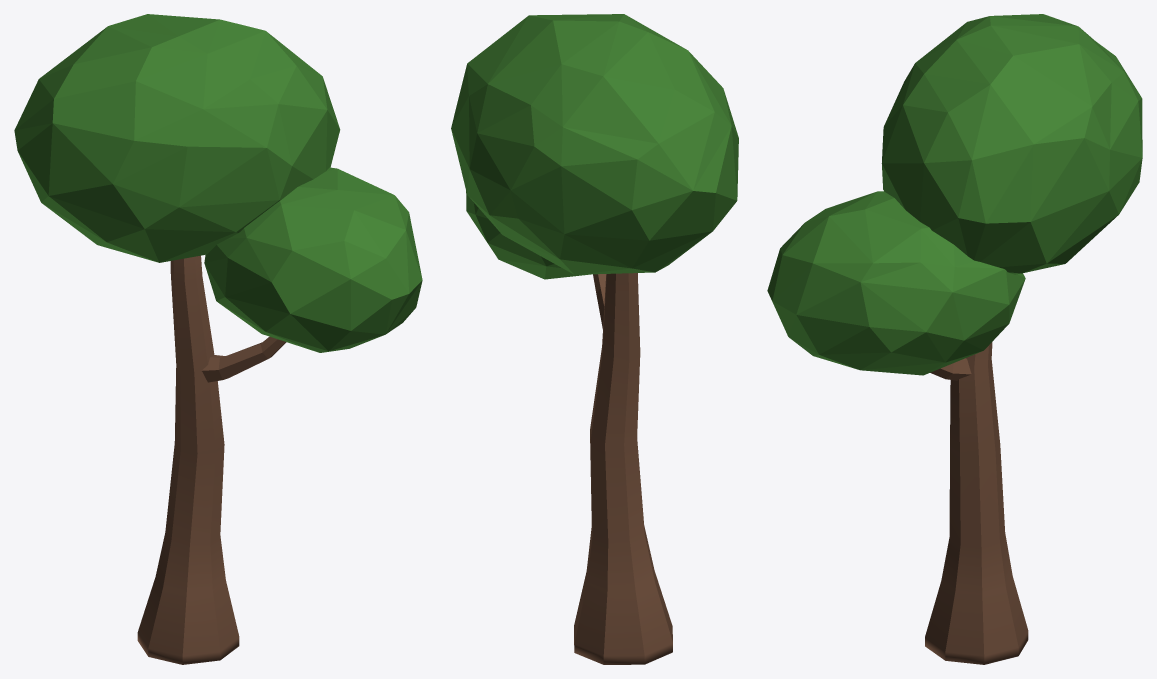
Rendered from SM_Tree_Mid.fbx.
The picture shows the model from 3 angles, left to right: view 1: azimuth 30°, elevation 25°; view 2: azimuth 150°, elevation 25°; view 3: azimuth 270°, elevation 25°; orthographic projection. The views are drawn at different scales.
Visible parts, largest first — view 1: Tree_Mid; view 2: Tree_Mid; view 3: Tree_Mid.
Boxes of the visible parts, left/top/right/bottom form: Tree_Mid: left=14, top=14, right=422, bottom=664; Tree_Mid: left=451, top=14, right=738, bottom=664; Tree_Mid: left=767, top=14, right=1142, bottom=664.
Size of the model in its own units: 305 by 575 by 318.
